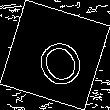O_NW: (24, 22, 86, 88)
